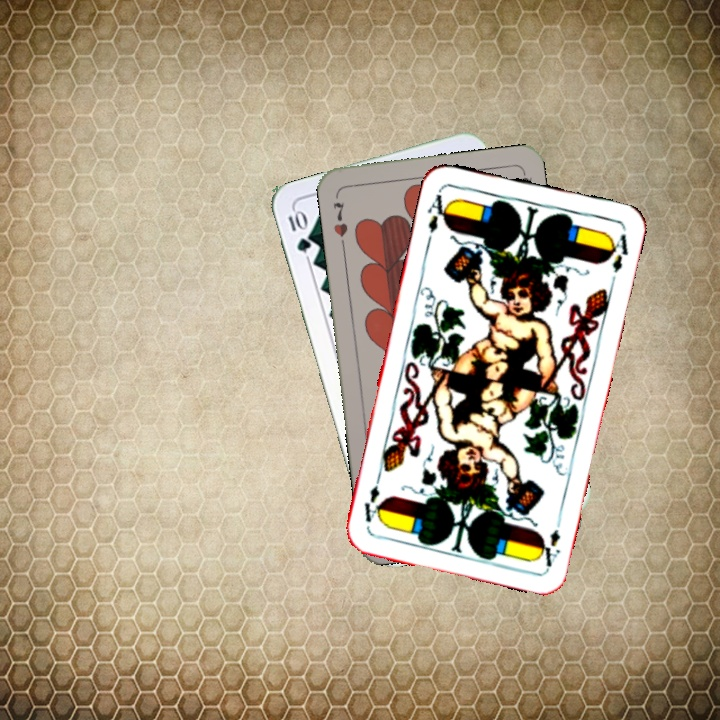EA: (535, 511, 565, 570), (423, 187, 453, 236)
G10: (284, 206, 314, 255)
H7: (329, 198, 351, 251)
